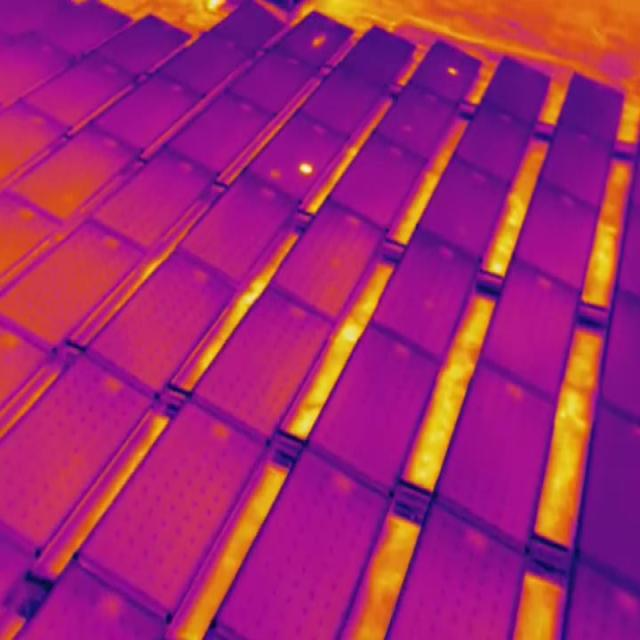Orange-Spots: (299, 161, 313, 176), (313, 33, 326, 47), (270, 167, 280, 180), (448, 66, 458, 76)
